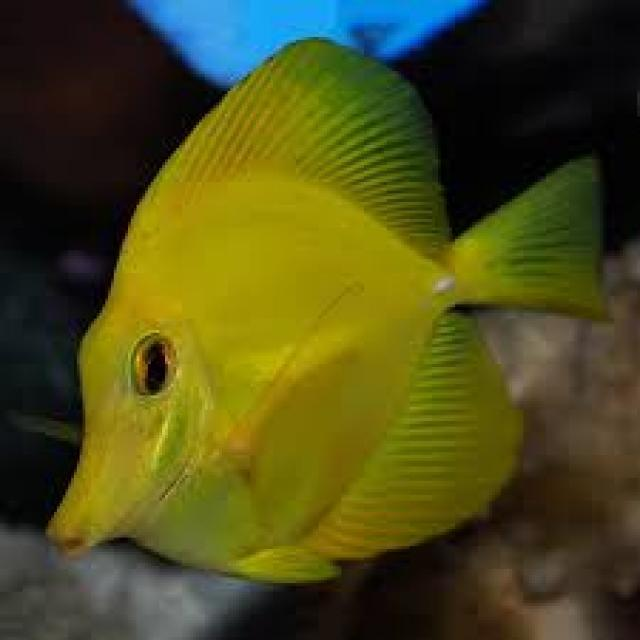TangFish: (39, 32, 609, 585)
